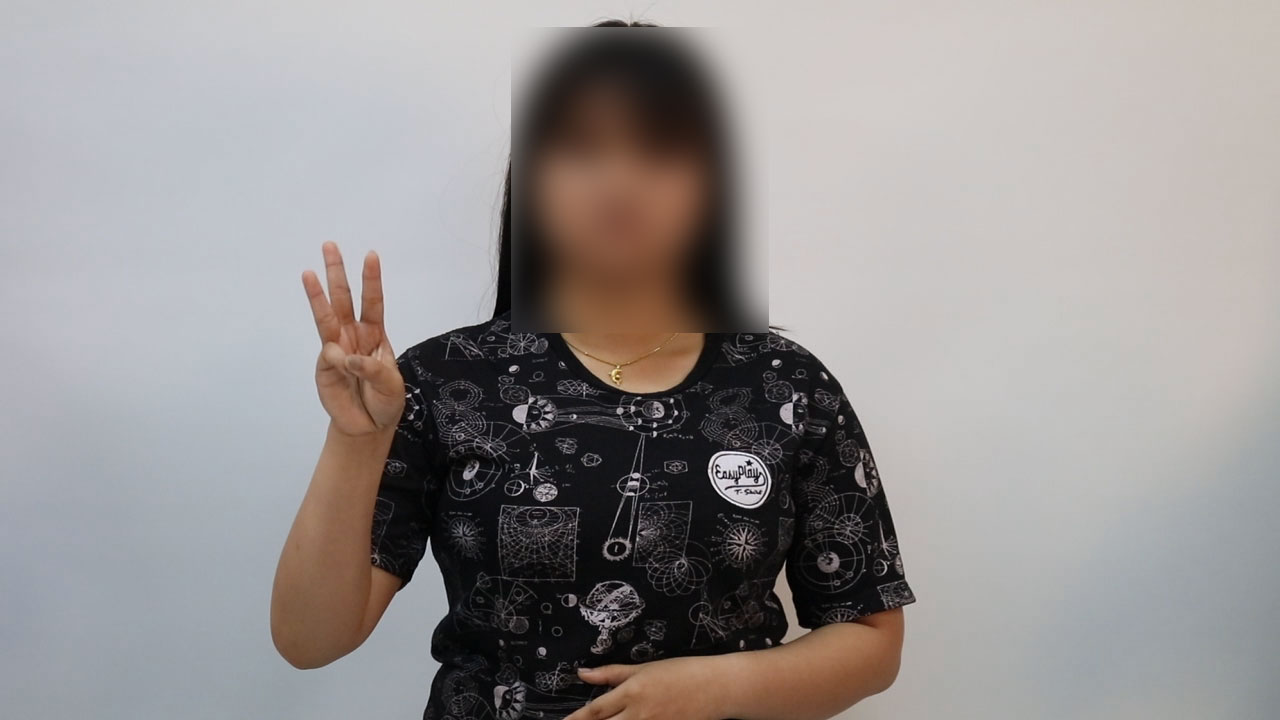wor: (292, 231, 415, 461)
